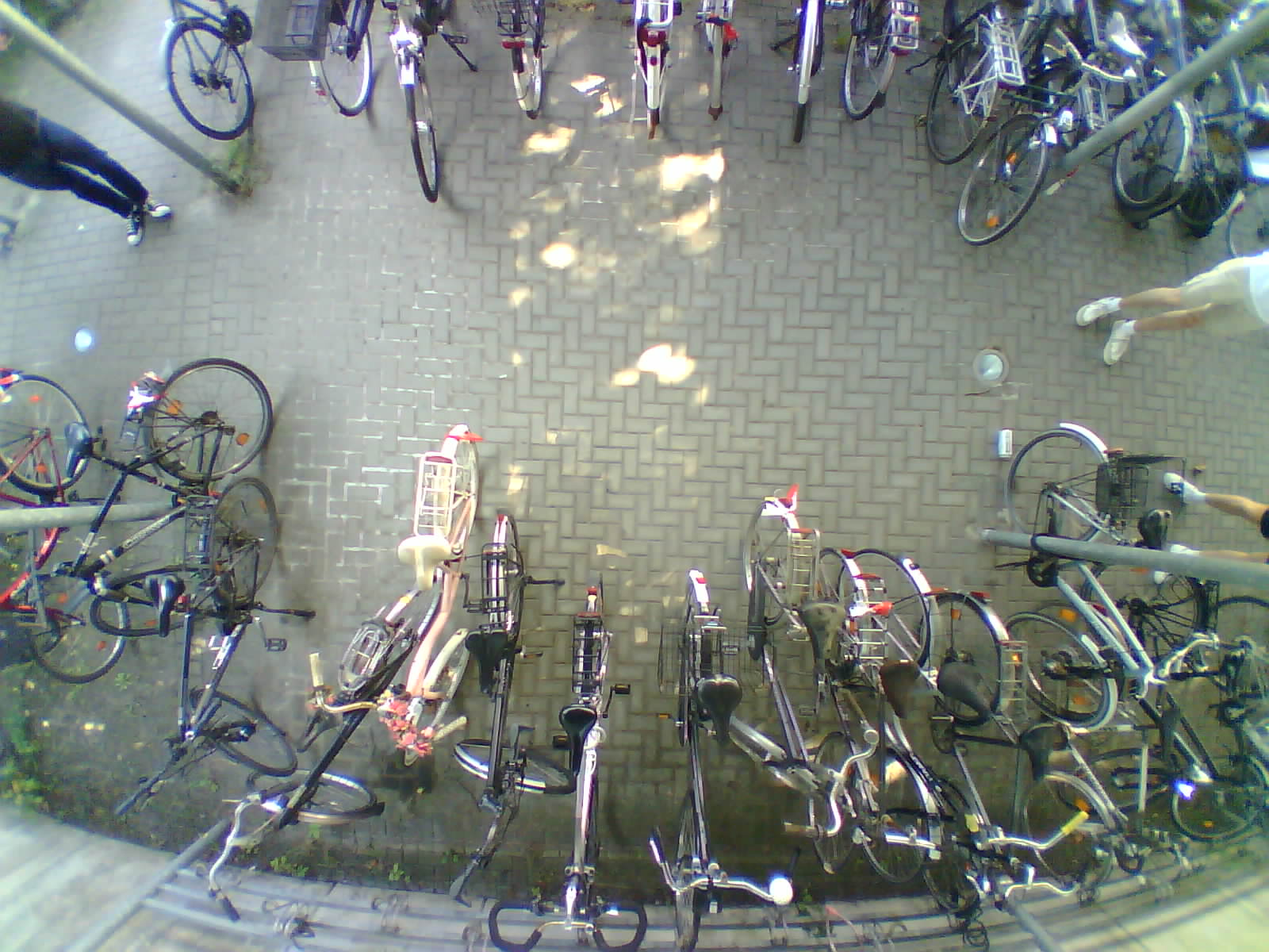bicylce: (75, 361, 269, 630), (989, 409, 1139, 714), (158, 474, 298, 780), (243, 606, 409, 840), (741, 473, 841, 848), (387, 423, 494, 772), (0, 380, 118, 685), (540, 571, 627, 952), (932, 572, 1028, 912), (849, 529, 943, 875), (665, 562, 736, 952), (960, 0, 1066, 249), (462, 507, 536, 822), (807, 538, 873, 831)
saddle: (692, 669, 749, 751), (877, 653, 930, 734), (461, 625, 518, 700), (941, 653, 999, 724), (393, 524, 452, 592), (1015, 713, 1067, 787), (795, 591, 842, 672), (555, 698, 603, 776), (140, 571, 193, 636), (1096, 10, 1145, 70), (297, 696, 345, 754), (1135, 499, 1178, 562), (59, 415, 98, 484), (1159, 712, 1185, 767)
